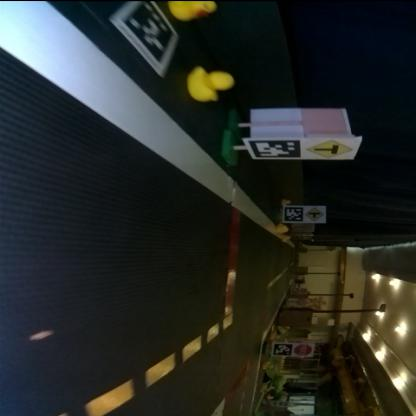Duckie: (189, 69, 233, 101), (168, 1, 218, 21), (278, 224, 288, 232), (264, 365, 274, 370), (284, 235, 292, 241), (284, 199, 290, 202)
Intersection sign: (310, 138, 354, 158), (306, 206, 327, 220)
QR code: (110, 2, 178, 74), (248, 138, 301, 160), (285, 206, 304, 221), (275, 346, 294, 355)
Stop sign: (296, 345, 314, 356)
